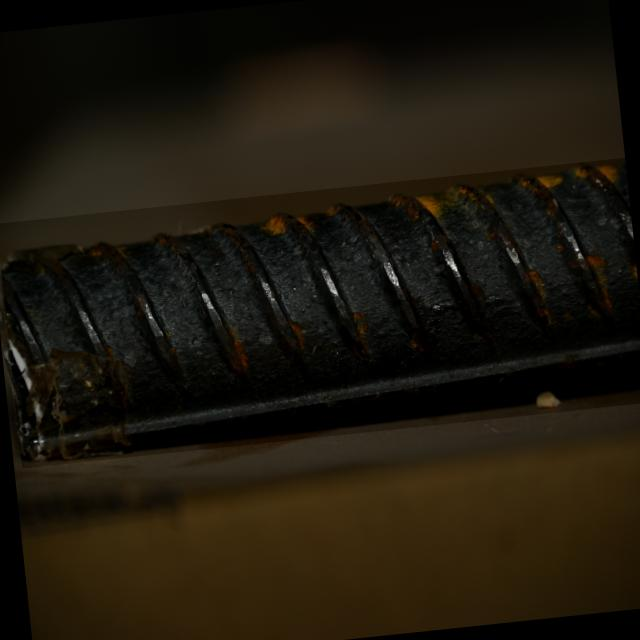ribbed bar: (0, 157, 640, 468)
